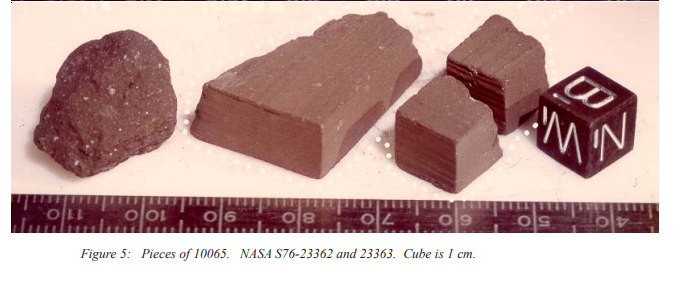Breccia: (186, 33, 410, 161), (412, 10, 535, 215), (31, 22, 190, 169)
